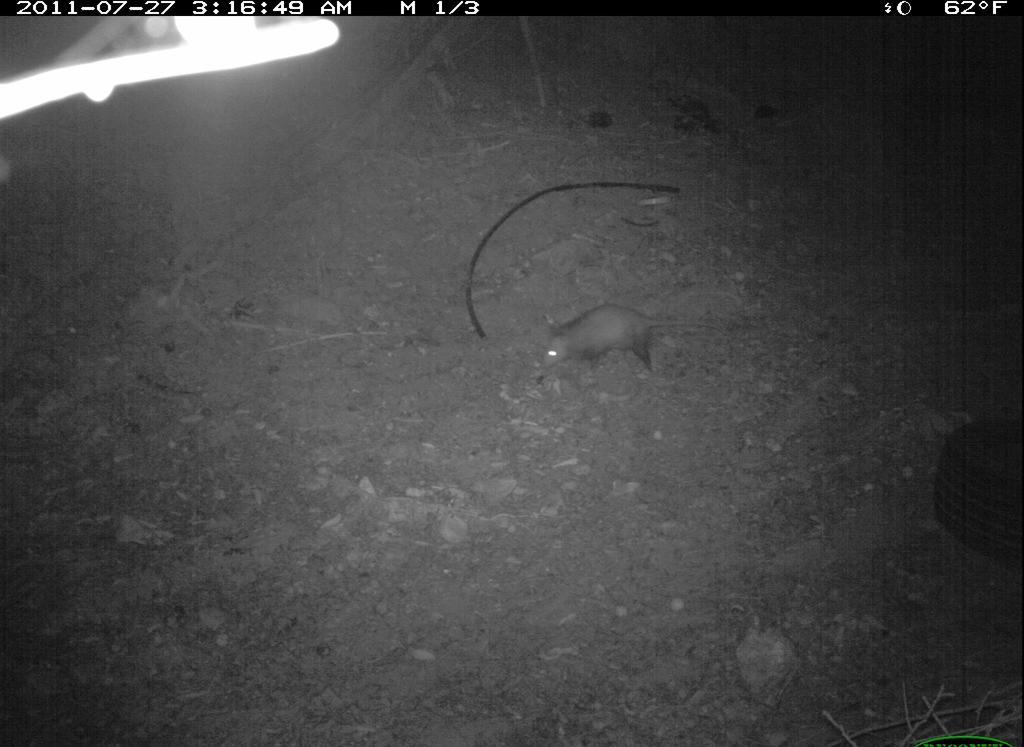opossum: (534, 294, 733, 386)
